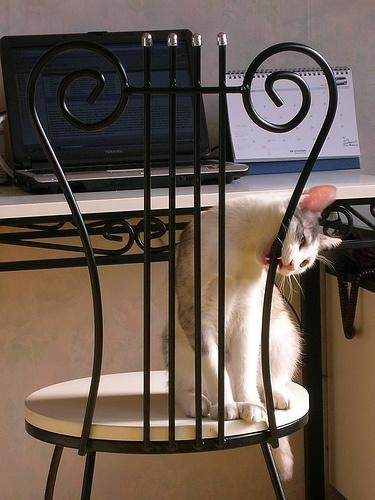cat: (160, 182, 330, 484)
chair: (25, 28, 340, 500)
